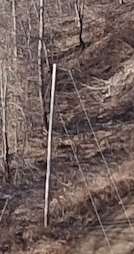pole: (38, 58, 73, 224)
